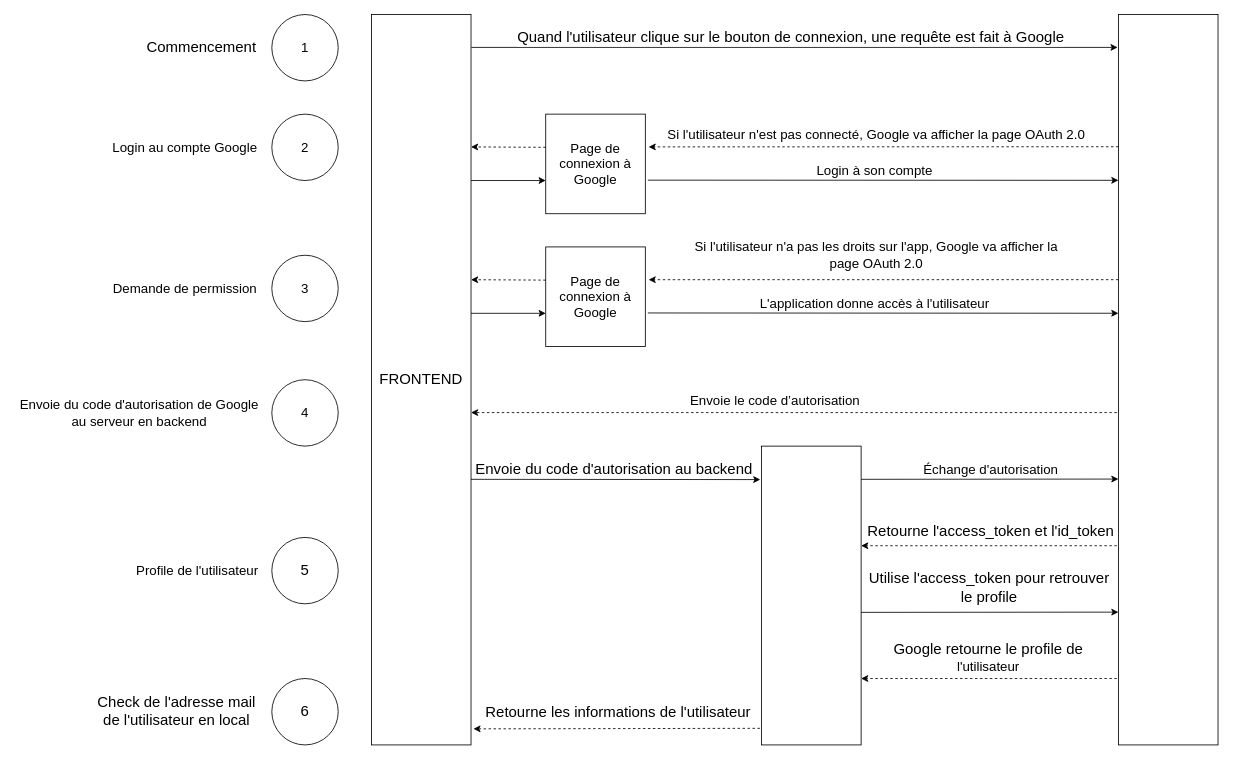
This 1233x759 diagram has some shape labels left out. The centre of each missing label's shape, as x and y in pixels:
"BACKEND SERVER" belongs at [811,595].
"GOOGLE API SERVER" belongs at [1168,379].
